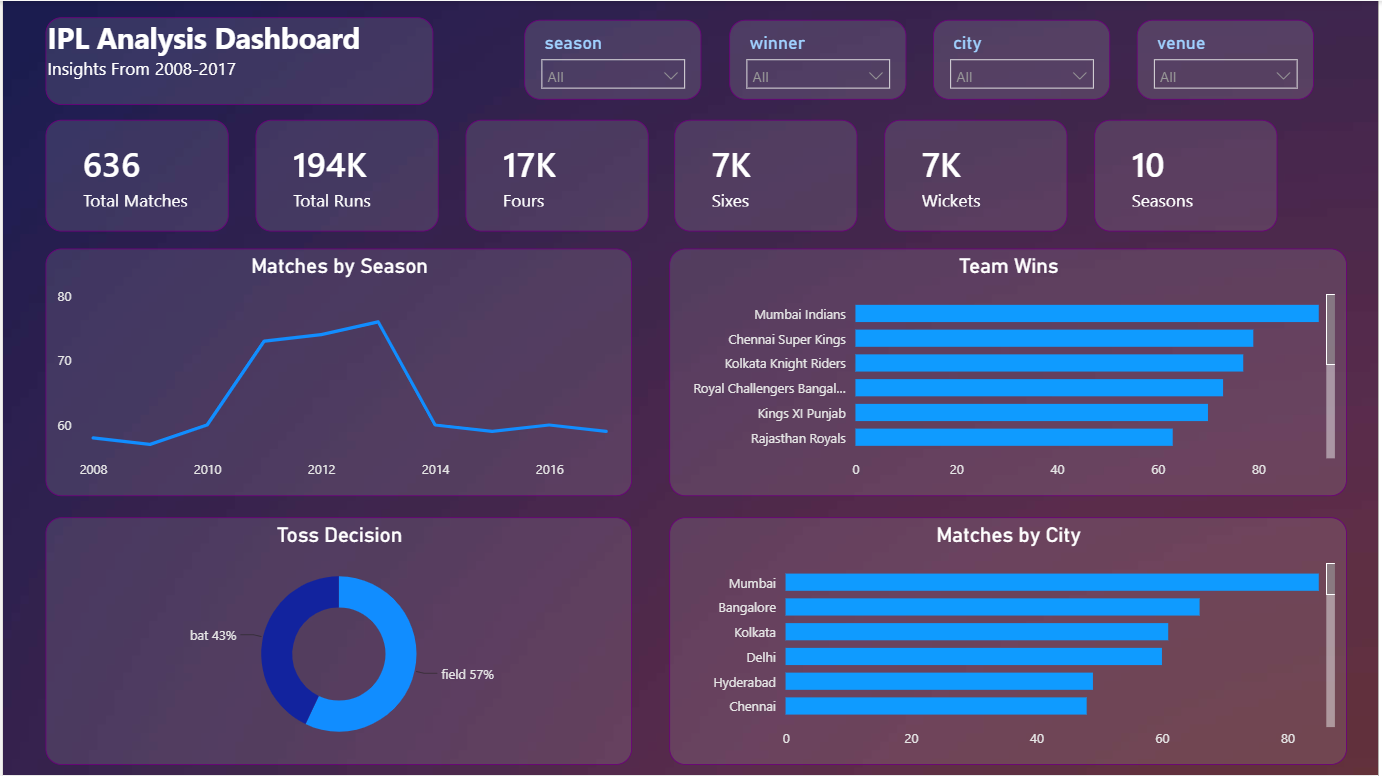

The dashboard page shown, as its layout file describes it:
{"tool":"powerbi","page":{"name":"Overview","canvas":[1280,720],"ordinal":0},"visuals":[{"type":"cardVisual","fields":{"Data":["matches.Total Matches"]},"box":[40,110,170,104],"z":0},{"type":"cardVisual","fields":{"Data":["matches.Total Runs"]},"box":[235,110,170,104],"z":1000},{"type":"cardVisual","fields":{"Data":["matches.Fours"]},"box":[430,110,170,104],"z":2000},{"type":"cardVisual","fields":{"Data":["matches.Sixes"]},"box":[625,110,170,104],"z":3000},{"type":"cardVisual","fields":{"Data":["matches.Wickets"]},"box":[820,110,170,104],"z":4000},{"type":"cardVisual","fields":{"Data":["matches.Seasons"]},"box":[1015,110,170,104],"z":5000},{"type":"lineChart","title":"Matches by Season","fields":{"Y":["CountNonNull(matches.id)"],"Category":["matches.season"]},"box":[40,230.2,545.4,230],"z":6000},{"type":"clusteredBarChart","title":"Team Wins","fields":{"Category":["matches.winner"],"Y":["CountNonNull(matches.winner)"]},"box":[620,230,630,230],"z":7000},{"type":"donutChart","title":"Toss Decision","fields":{"Category":["matches.toss_decision"],"Y":["CountNonNull(matches.id)"]},"box":[40,480.2,545.4,230],"z":8000},{"type":"clusteredBarChart","title":"Matches by City","fields":{"Category":["matches.city"],"Y":["CountNonNull(matches.id)"]},"box":[620,480,630,230],"z":9000},{"type":"slicer","title":"Team","fields":{"Values":["matches.winner"]},"box":[675.1,17,165,74],"z":10000},{"type":"slicer","title":"City","fields":{"Values":["matches.city"]},"box":[865,17,165,74],"z":11000},{"type":"slicer","title":"Season","fields":{"Values":["matches.season"]},"box":[485,17.1,165,74],"z":12000},{"type":"slicer","title":"Venue","fields":{"Values":["matches.venue"]},"box":[1055,17,165,74],"z":13000},{"type":"textbox","box":[39.5,15.1,360.5,81.4],"z":14000}]}

Visuals, with their boxes in screenshot pixels (x1, y1, x2, y2), scaled from the page's 1280x720 canvas onto the 1382x776 screenshot:
cardVisual - matches.Total Matches: box=[43, 119, 227, 231]
cardVisual - matches.Total Runs: box=[254, 119, 437, 231]
cardVisual - matches.Fours: box=[464, 119, 648, 231]
cardVisual - matches.Sixes: box=[675, 119, 858, 231]
cardVisual - matches.Wickets: box=[885, 119, 1069, 231]
cardVisual - matches.Seasons: box=[1096, 119, 1279, 231]
"Matches by Season" lineChart: box=[43, 248, 632, 496]
"Team Wins" clusteredBarChart: box=[669, 248, 1350, 496]
"Toss Decision" donutChart: box=[43, 518, 632, 765]
"Matches by City" clusteredBarChart: box=[669, 517, 1350, 765]
"Team" slicer: box=[729, 18, 907, 98]
"City" slicer: box=[934, 18, 1112, 98]
"Season" slicer: box=[524, 18, 702, 98]
"Venue" slicer: box=[1139, 18, 1317, 98]
textbox: box=[43, 16, 432, 104]
